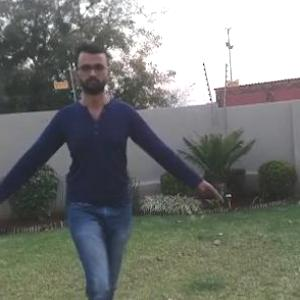land: (1, 59, 211, 299)
